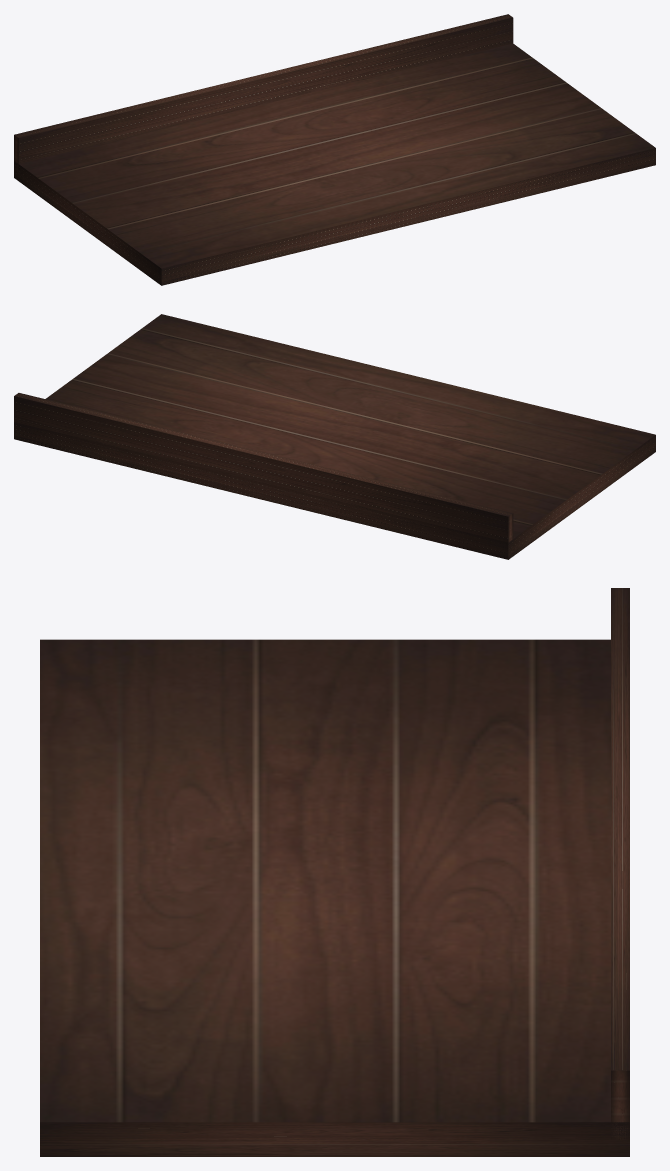
The model's file is Kitchen_Countertop.fbx.
The picture shows the model from 3 angles, top to bottom: view 1: azimuth 30°, elevation 25°; view 2: azimuth 150°, elevation 25°; view 3: azimuth 270°, elevation 25°; orthographic projection. The views are drawn at different scales.
Visible parts, largest first — view 1: Kitchen_Countertop; view 2: Kitchen_Countertop; view 3: Kitchen_Countertop.
Boxes of the visible parts, x1,y1,x2,y2 form: Kitchen_Countertop: (14,14,655,285); Kitchen_Countertop: (14,314,655,559); Kitchen_Countertop: (40,588,629,1156).
Size of the model in its own units: 1.2 by 0.1 by 0.62.
